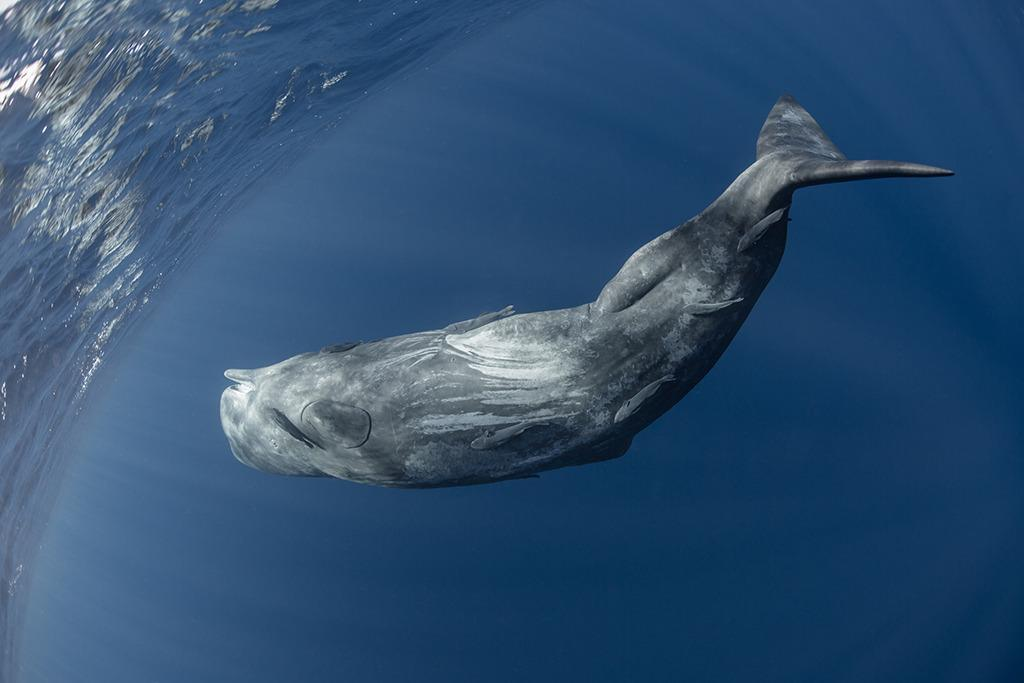fish: (215, 93, 954, 487)
